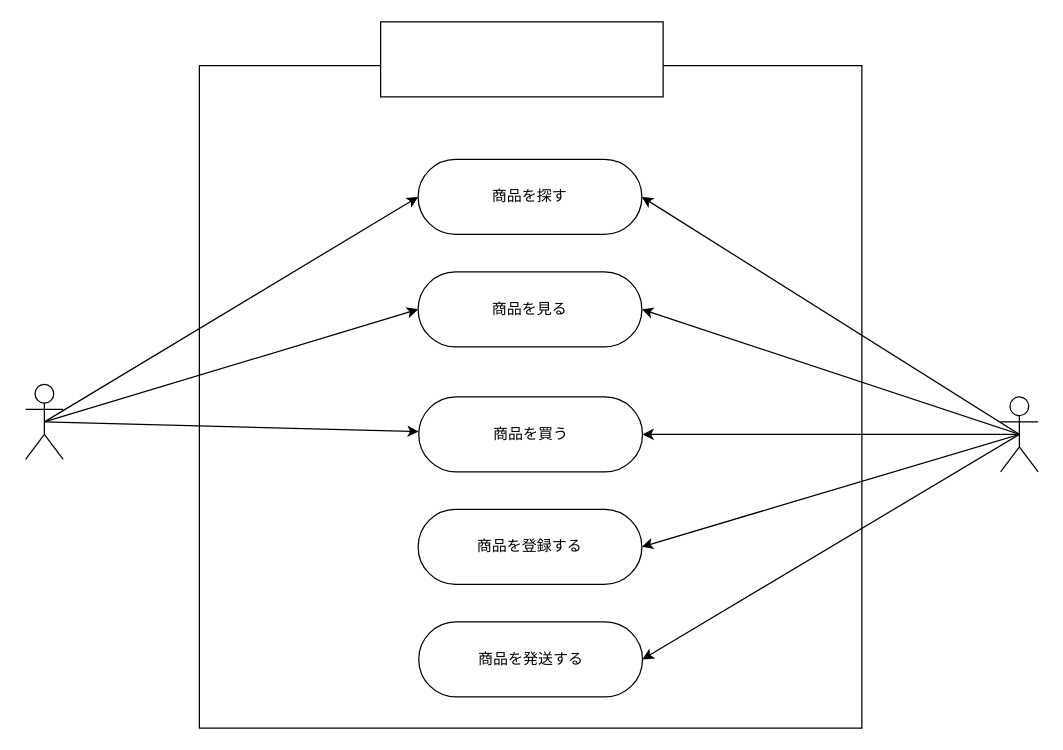
The diagram is 1063 pixels wide and 750 high, and some of its shapes have lost their labels. Here are the shapes that lost their labels. From the top down, the box of each, then its label:
(379, 21, 663, 97): 商品管理システム
(24, 383, 63, 459): 購入者
(999, 396, 1038, 472): 管理者
